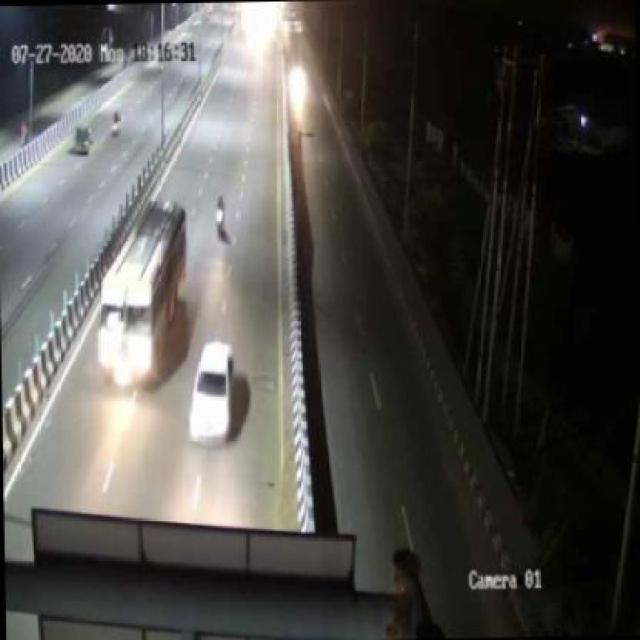car: (189, 332, 231, 443)
